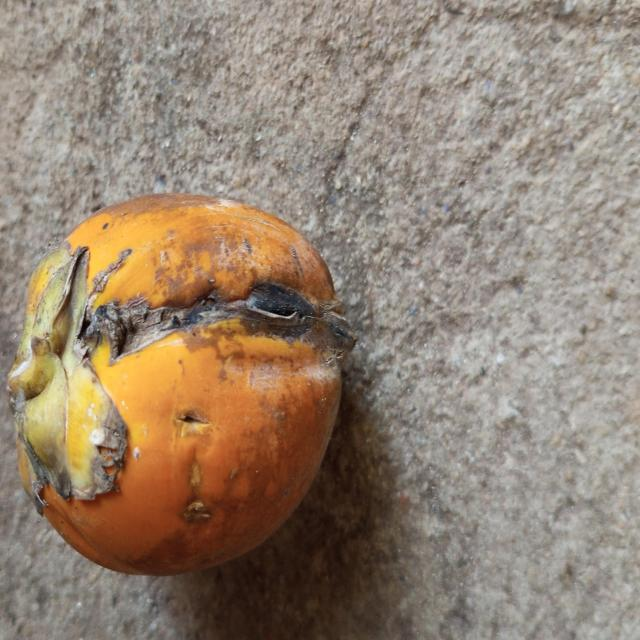damaged: (8, 194, 352, 580)
